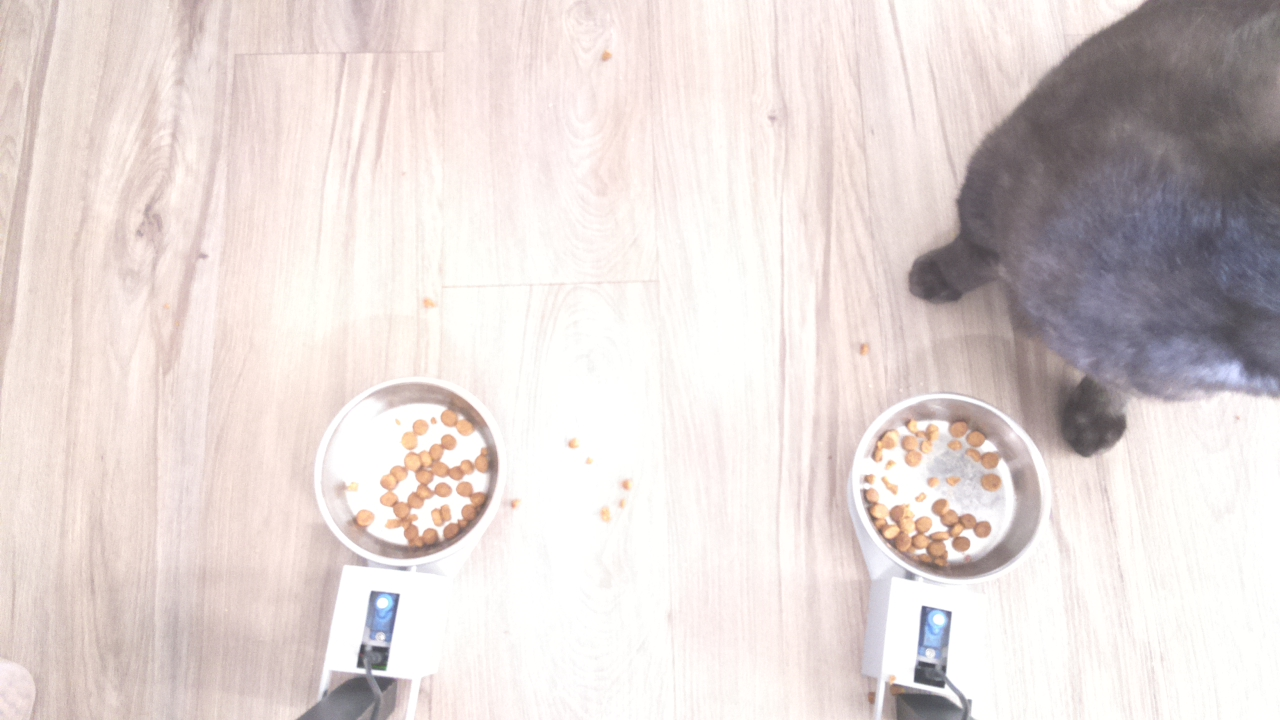open_bowl: (844, 383, 1054, 587), (306, 377, 513, 571)
